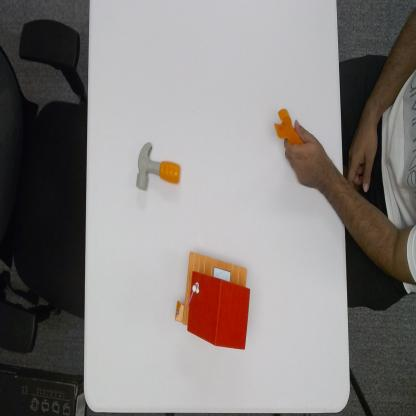Arm: (326, 155, 416, 283)
Hammer: (135, 140, 181, 192)
Hand: (284, 119, 331, 192)
House: (174, 248, 251, 354)
Screwdriver: (272, 105, 302, 143)
